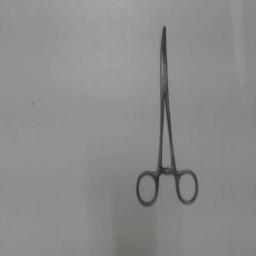Crile Artery Forceps: (133, 20, 203, 208)
